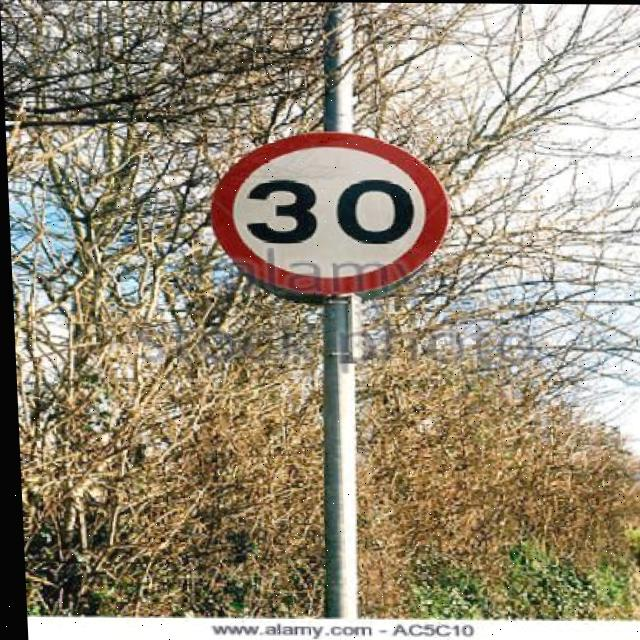Speed limit 30: (202, 128, 454, 304)
